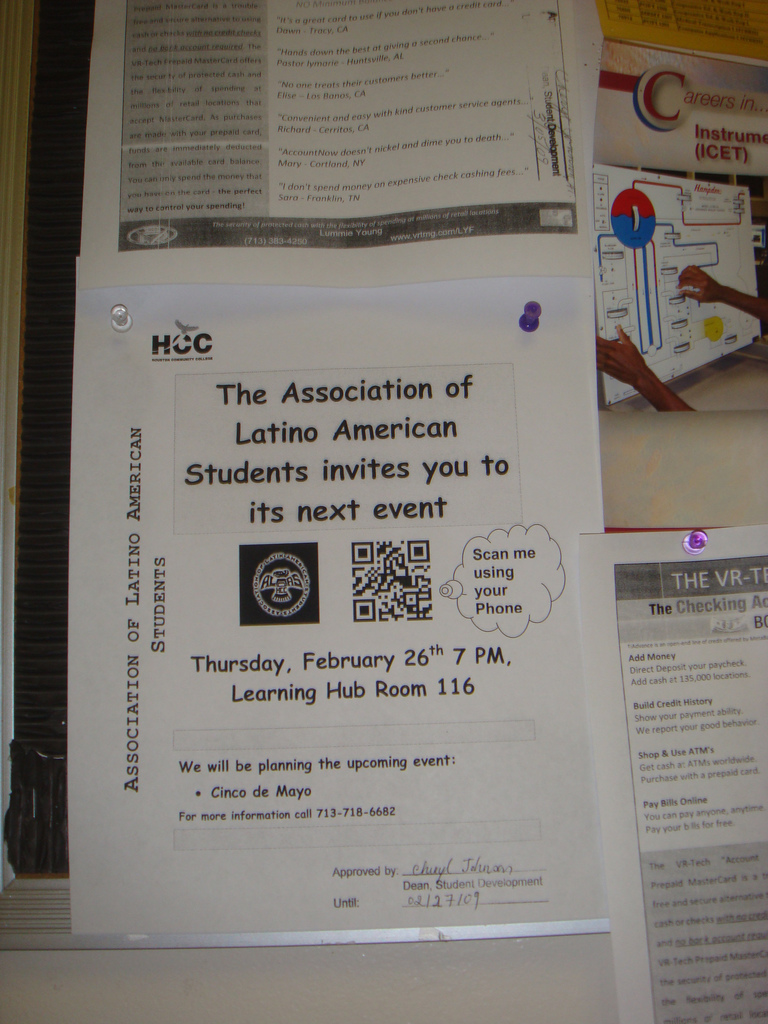QR-CODE: (352, 540, 432, 621)
